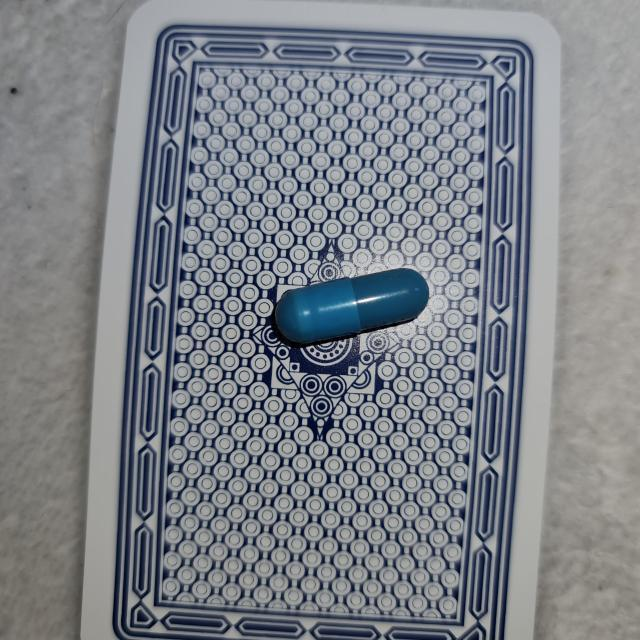pill: (272, 266, 431, 348)
